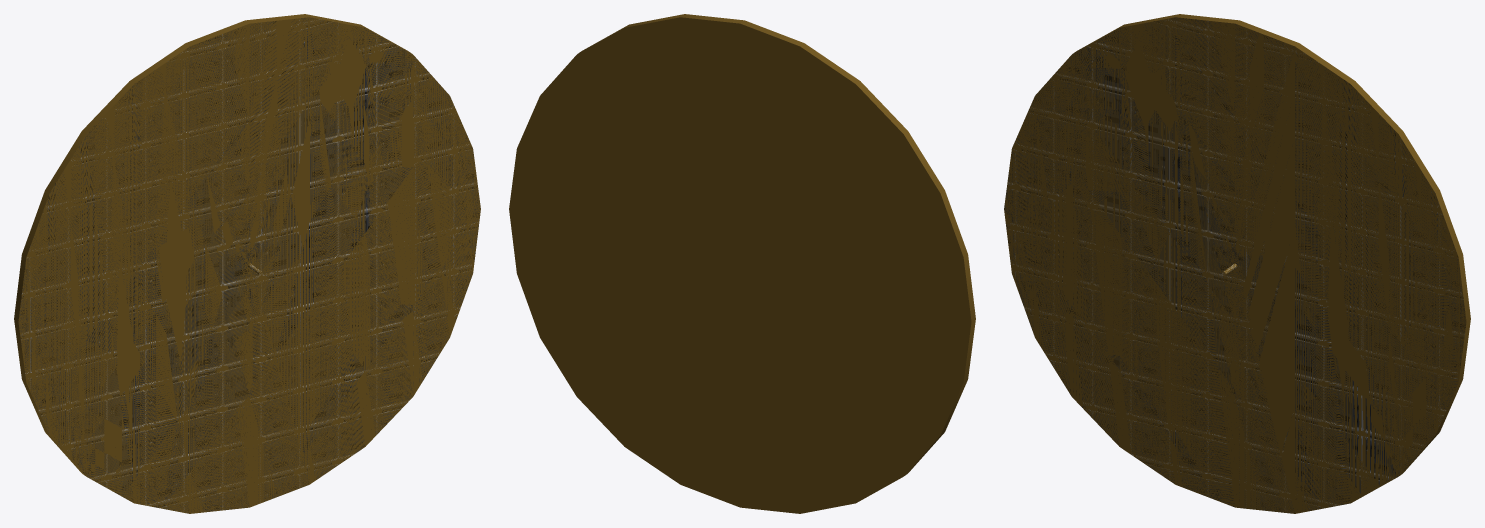
The model's file is original-31.obj.
3 views of the same model, side by side, from view 1: azimuth 30°, elevation 25°; view 2: azimuth 150°, elevation 25°; view 3: azimuth 330°, elevation 25° (orthographic).
Parts seen in each view (by area): view 1: mesh65/mesh65-geometry#mesh65-geometry; view 2: mesh65/mesh65-geometry#mesh65-geometry; view 3: mesh65/mesh65-geometry#mesh65-geometry.
Boxes of the visible parts, box(x1,y1,x2,y2) form: mesh65/mesh65-geometry#mesh65-geometry: box(14, 14, 480, 513); mesh65/mesh65-geometry#mesh65-geometry: box(509, 14, 975, 513); mesh65/mesh65-geometry#mesh65-geometry: box(1004, 14, 1470, 513).
Size of the model in its own units: 1.82 by 1.82 by 0.1081.
